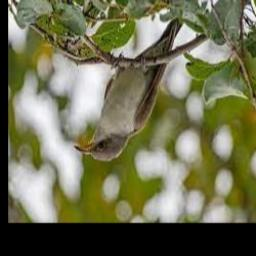Cuckoo: (74, 0, 202, 162)
